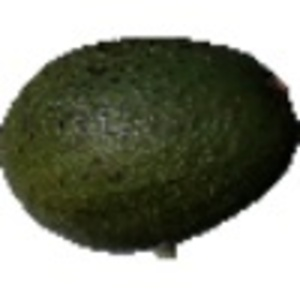abacate: (1, 35, 297, 257)
